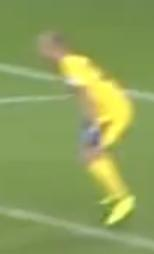goalkeeper: (25, 16, 154, 254)
